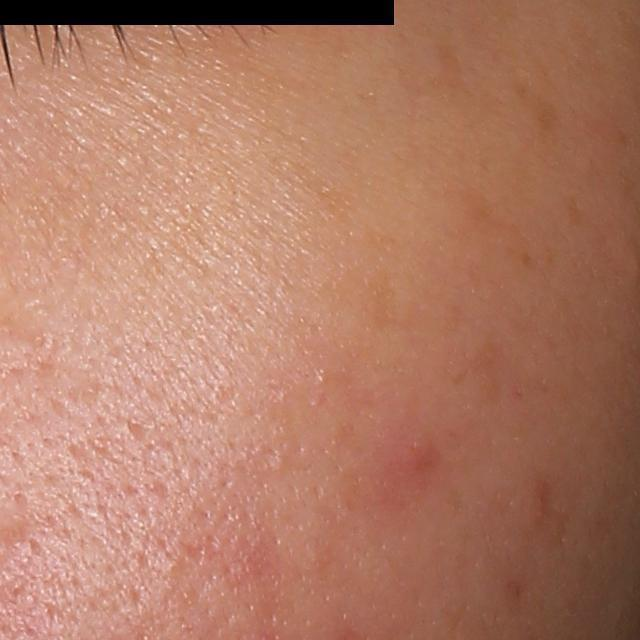melasma: (409, 39, 479, 110), (512, 78, 564, 140)
